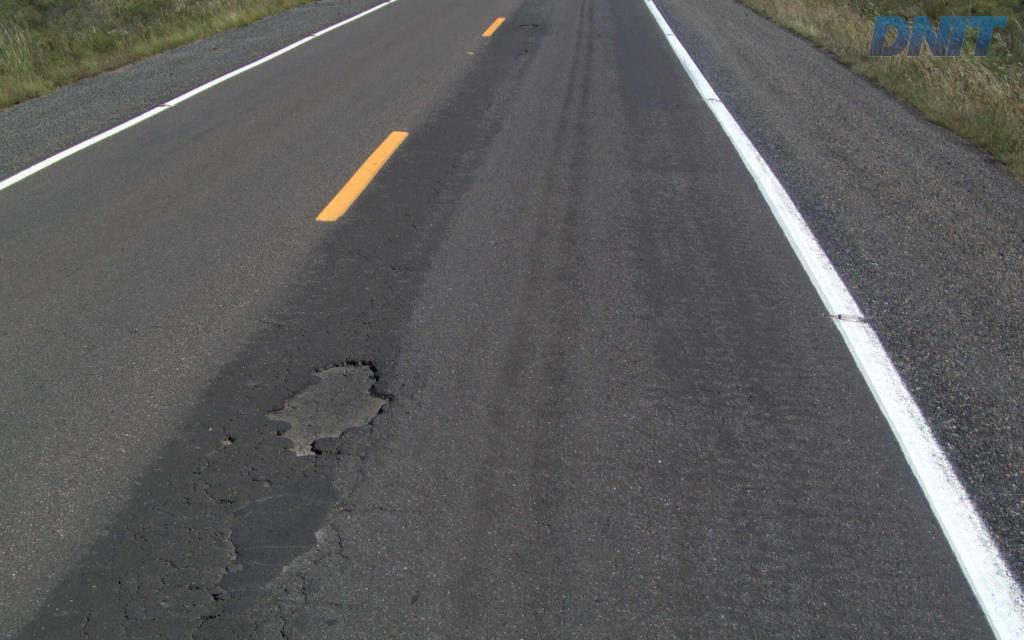pothole: (259, 351, 400, 457)
